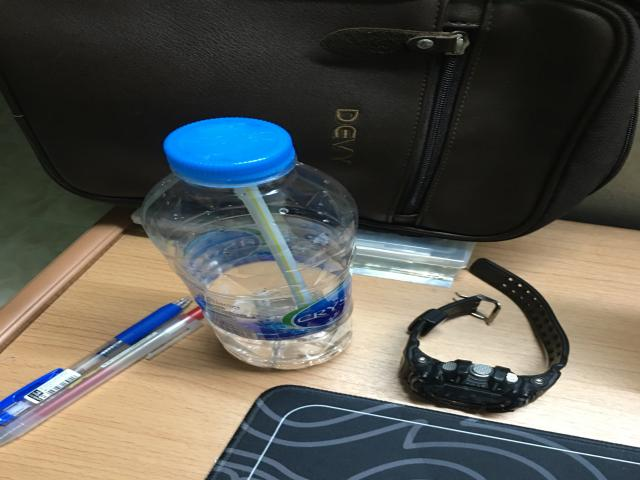Pen: (0, 300, 205, 450)
Watch: (400, 259, 568, 412)
bottle: (133, 117, 358, 369)
